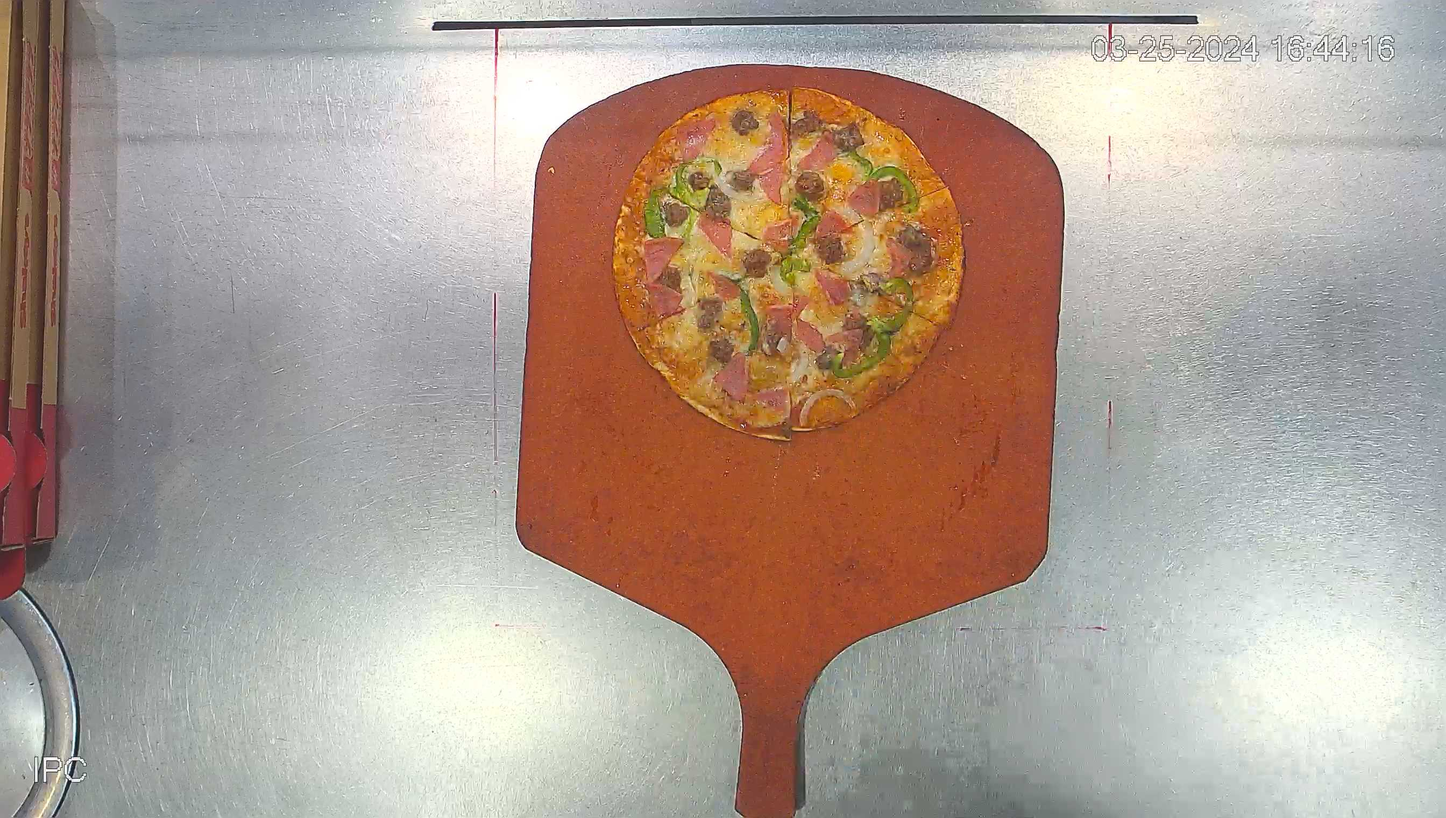hawaiian: (613, 86, 963, 440)
